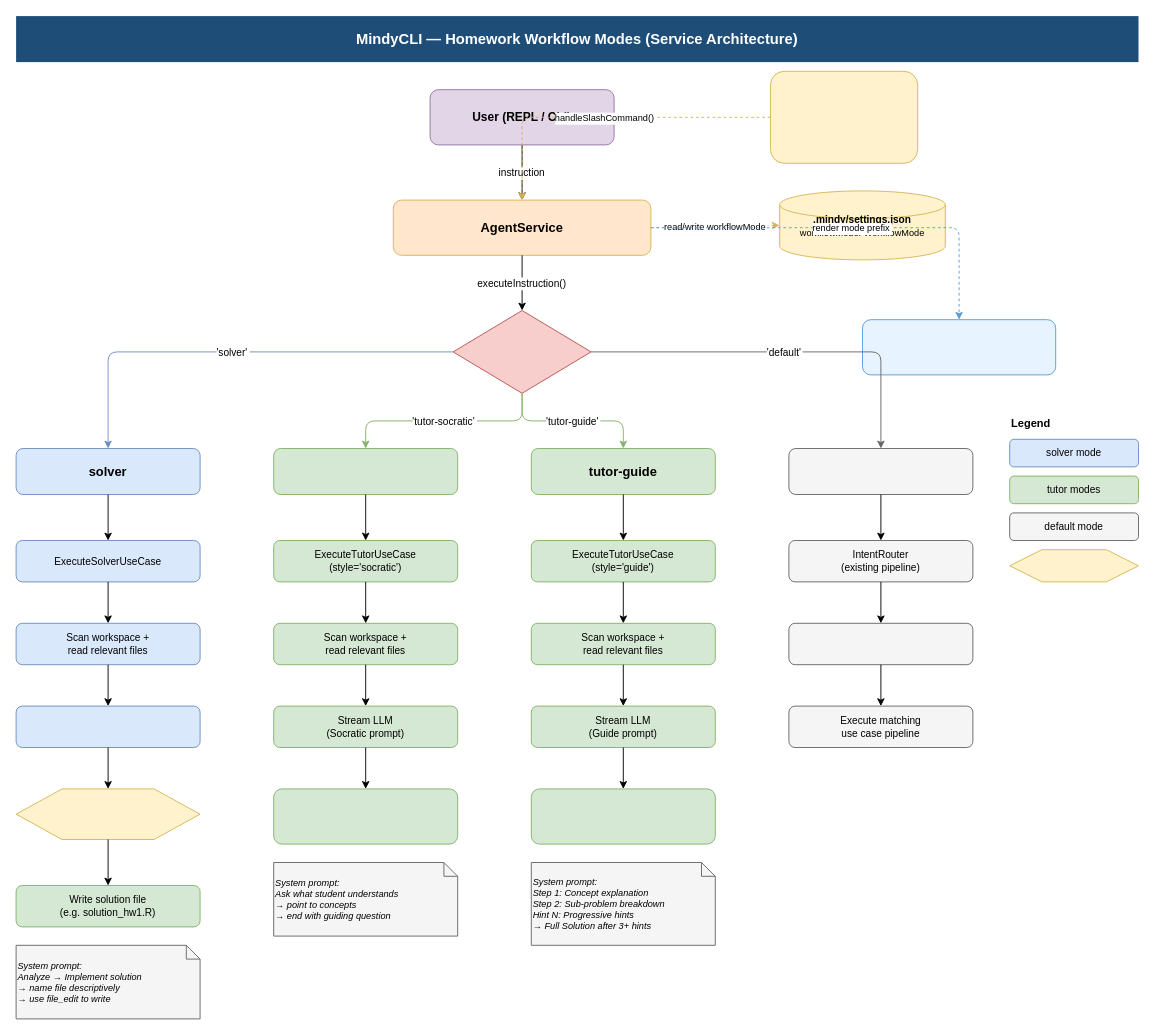
This 1155x1035 diagram has some shape labels left out. The shapes that lost their labels are listed below. From the top down, each one's centre as x and y in pixels, then its label:
At point (844, 116): "Slash Commands /solver /tutor-socratic /tutor-guide /default /mode".
At point (521, 351): "activeMode?".
At point (959, 347): "Status Bar [solver] model · context · rpm".
At point (365, 471): "tutor-socratic".
At point (880, 471): "default".
At point (1073, 565): "approval / gate".
At point (880, 643): "Classify intent (ask / edit / run / install)".
At point (107, 726): "ReAct loop (solver-agent prompt)".
At point (107, 814): "Approval Gate (Phase 3 diff review)".
At point (365, 816): "Respond with guiding questions ONLY (NEVER direct answers)".
At point (622, 816): "Step-by-step hints → reveal full solution after 3+ hints".
